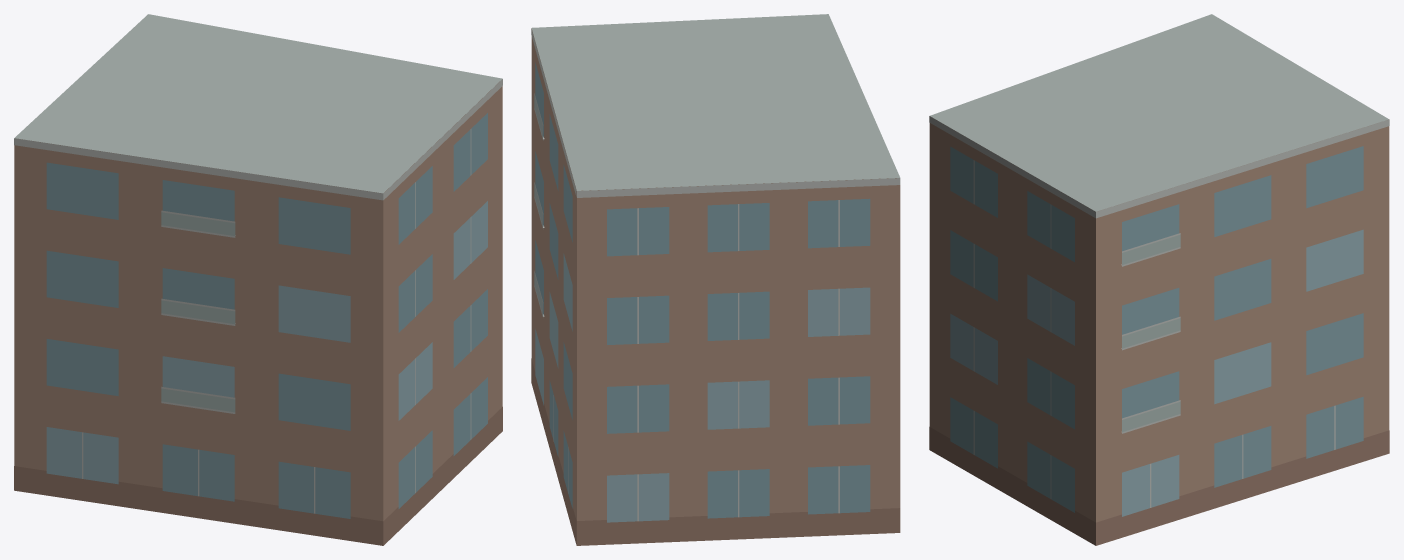
The model's file is survey-upis-32946401.glb.
The picture shows the model from 3 angles, left to right: view 1: azimuth 30°, elevation 25°; view 2: azimuth 150°, elevation 25°; view 3: azimuth 270°, elevation 25°; orthographic projection. The views are drawn at different scales.
Visible parts, largest first — view 1: survey-upis-32946401.tmp; view 2: survey-upis-32946401.tmp; view 3: survey-upis-32946401.tmp.
Part boxes in pixels (x1,y1,x2,y2): survey-upis-32946401.tmp: (14, 14, 502, 545); survey-upis-32946401.tmp: (531, 14, 900, 545); survey-upis-32946401.tmp: (929, 14, 1389, 545).
Size of the model in its own units: 15.49 by 12.2 by 15.23.
